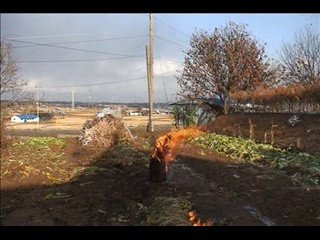fire: (150, 124, 200, 170), (187, 208, 212, 226)
